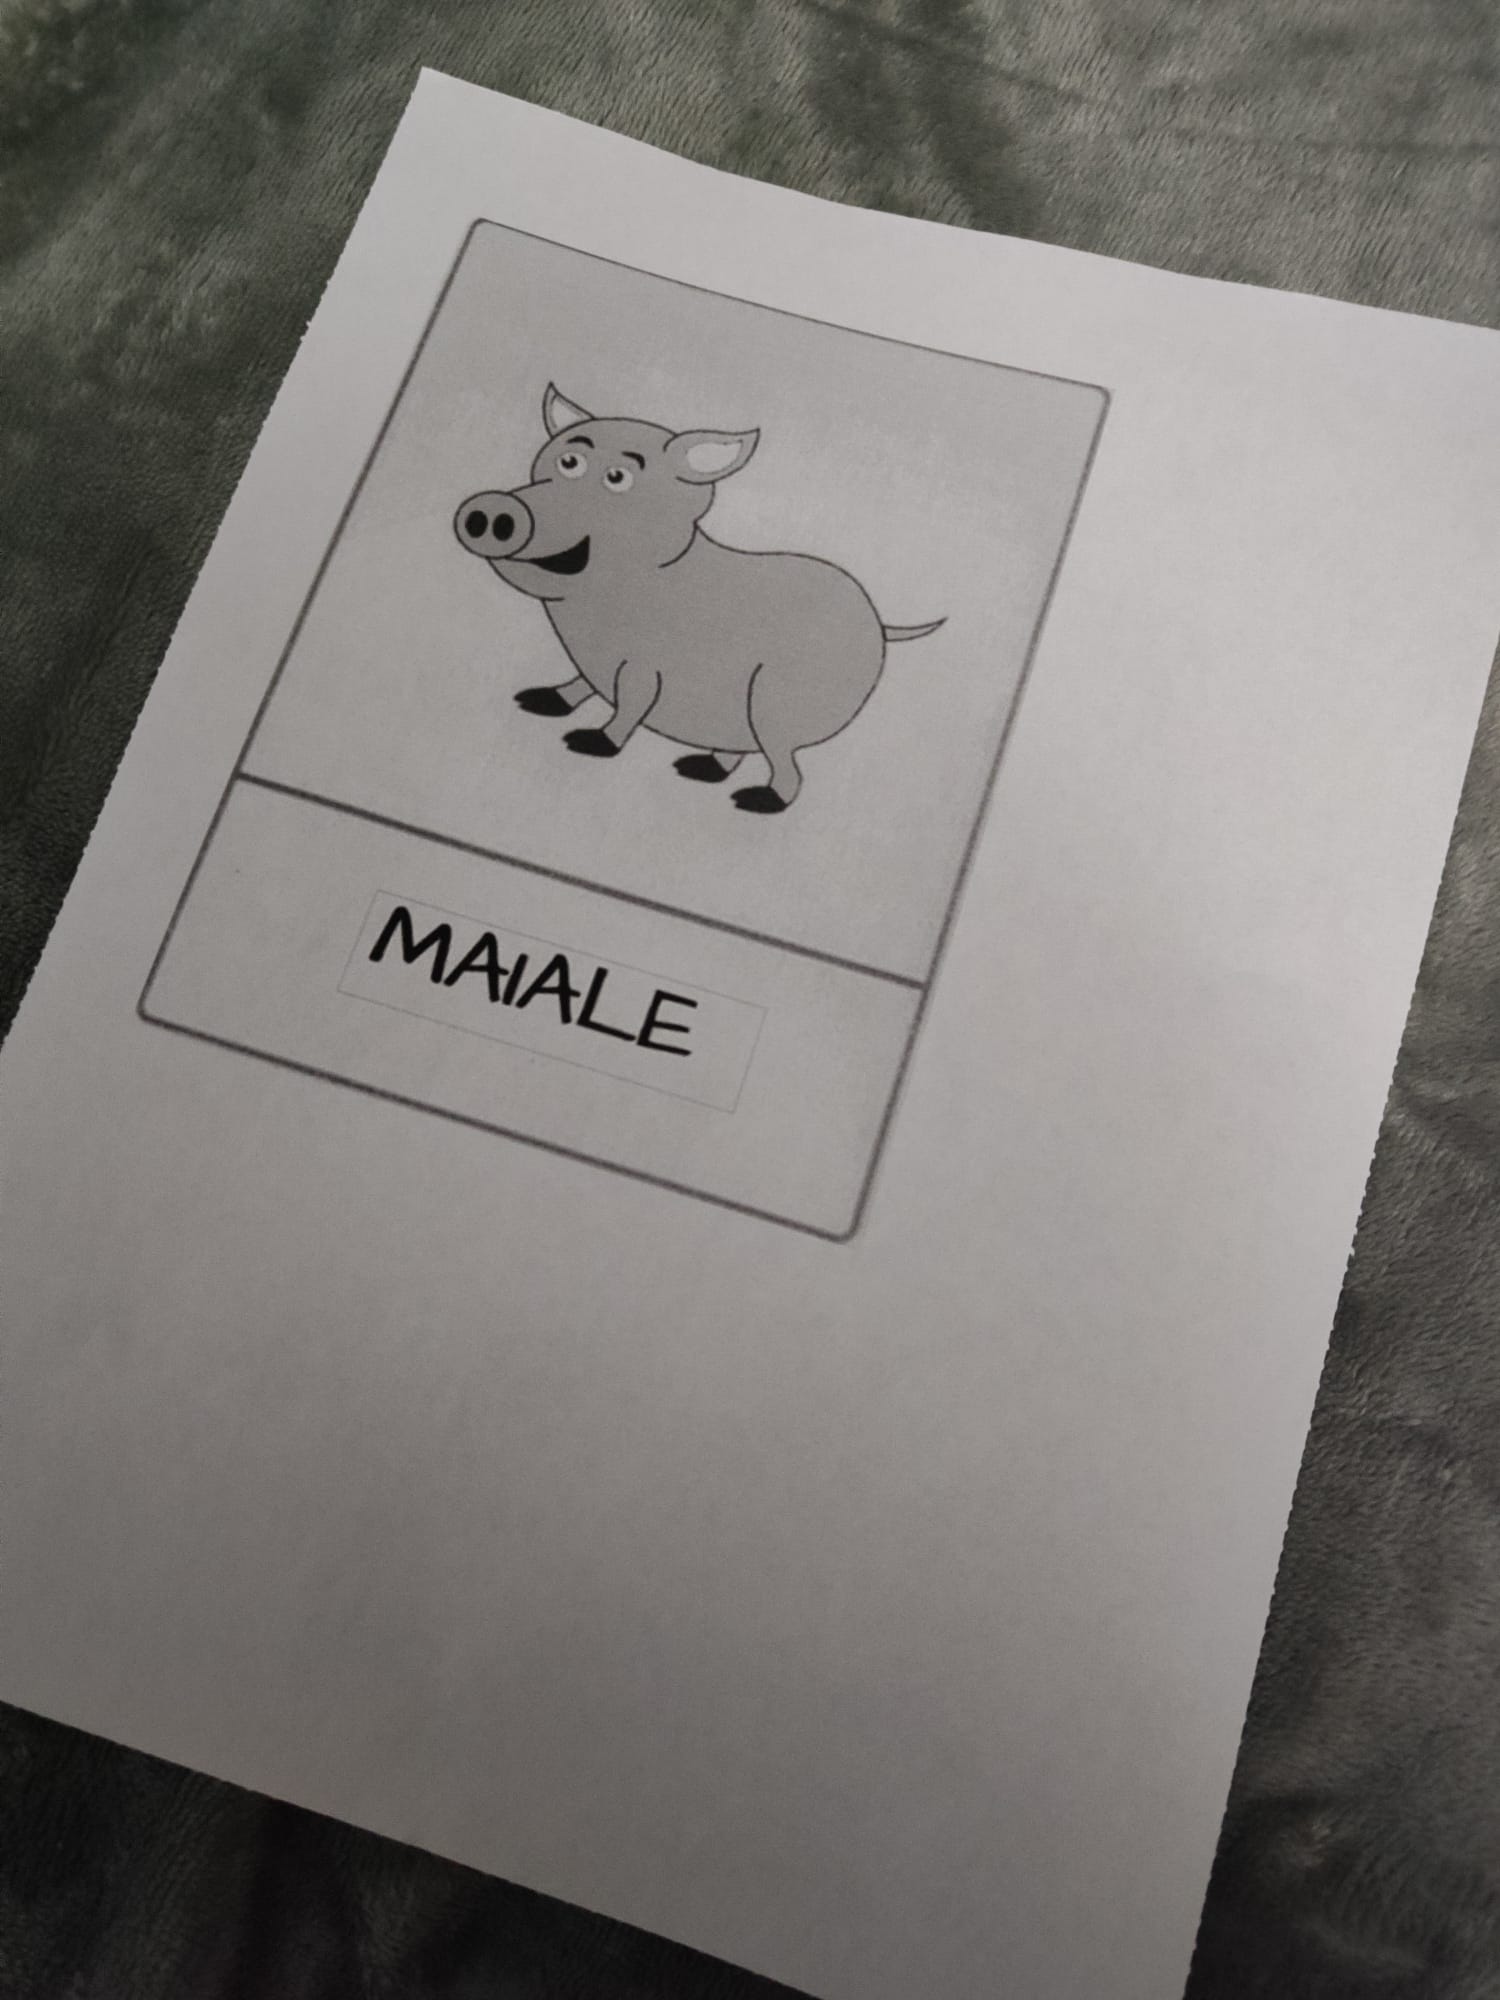maiale: (281, 181, 1025, 1293)
